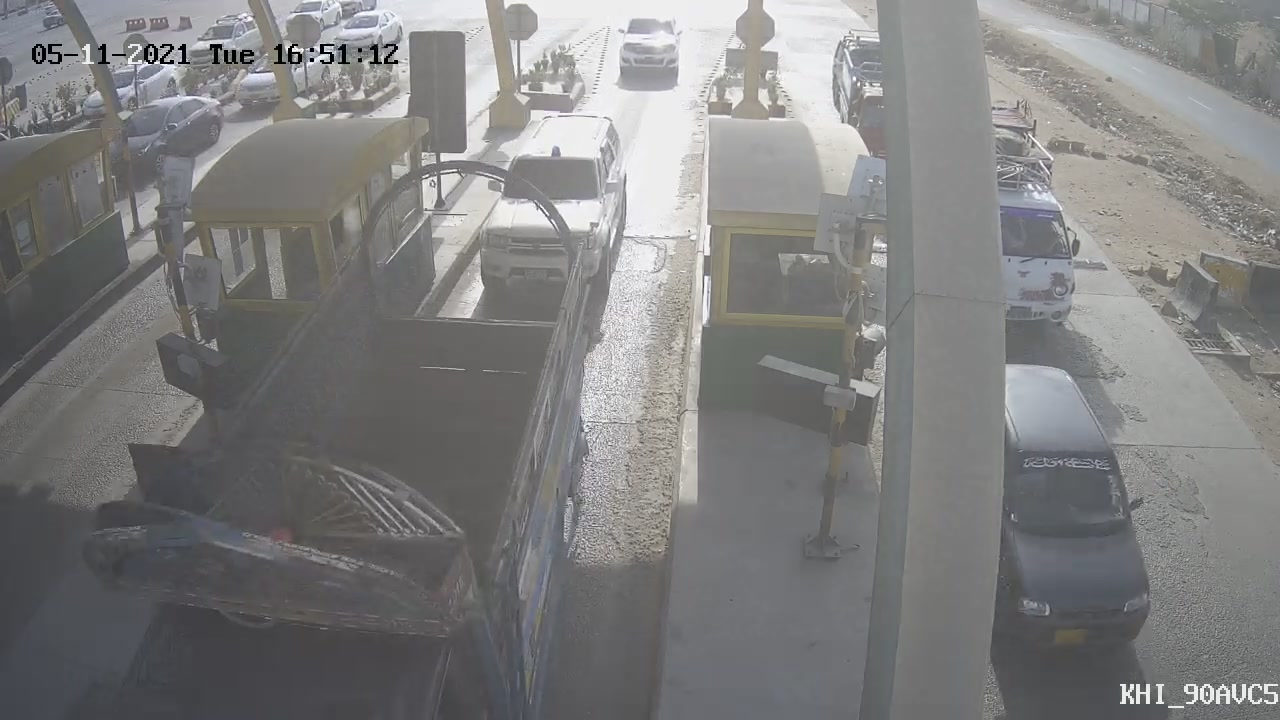F1: (466, 99, 641, 312)
